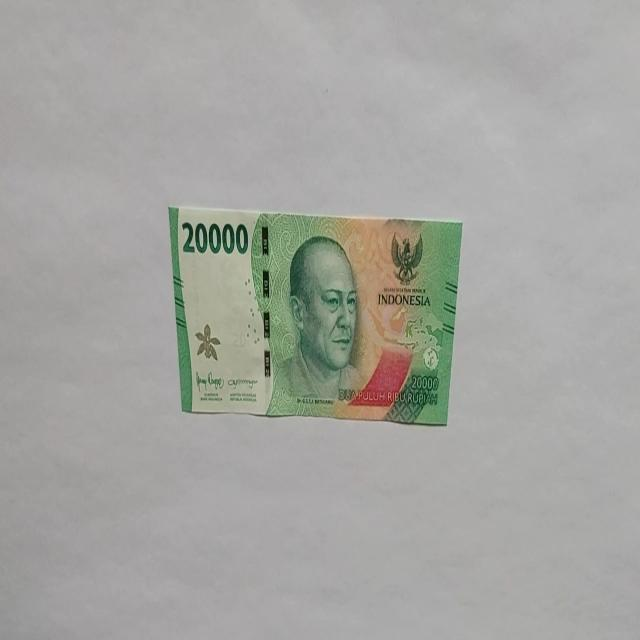dua puluh ribu rupiah: (167, 203, 463, 424), (268, 233, 368, 416)
